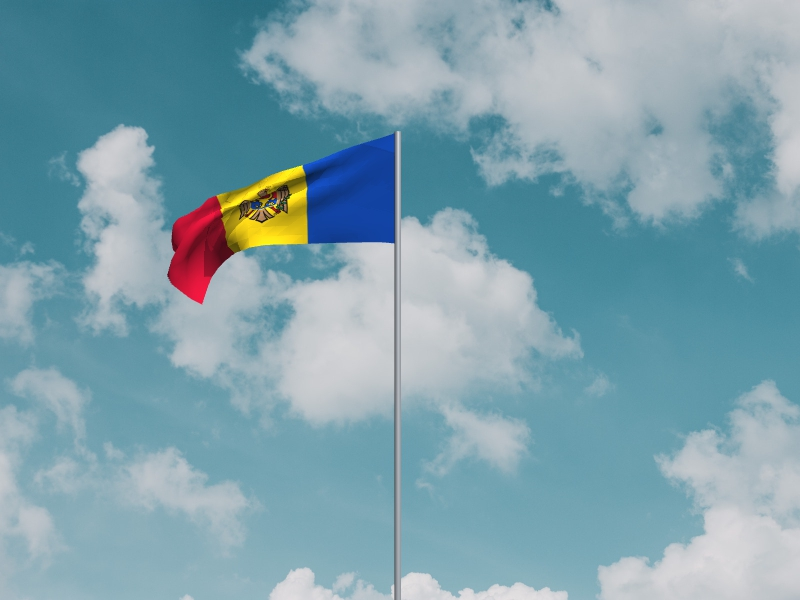md: (166, 134, 395, 307)
